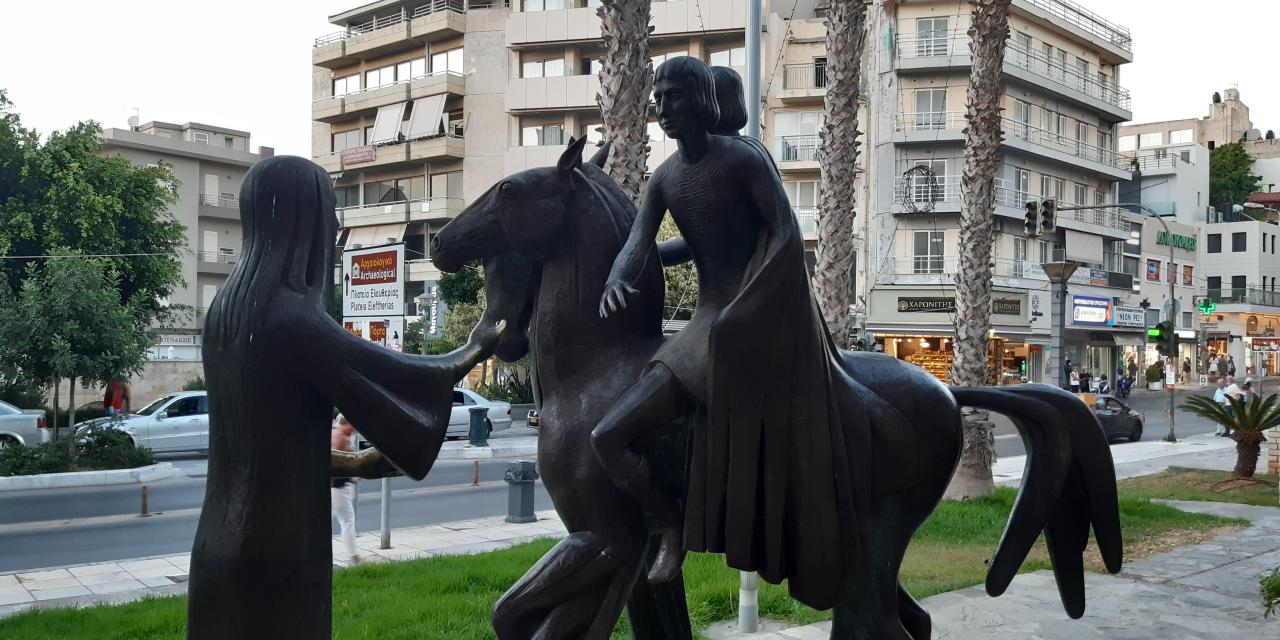Aretousa: (187, 54, 1126, 640)
